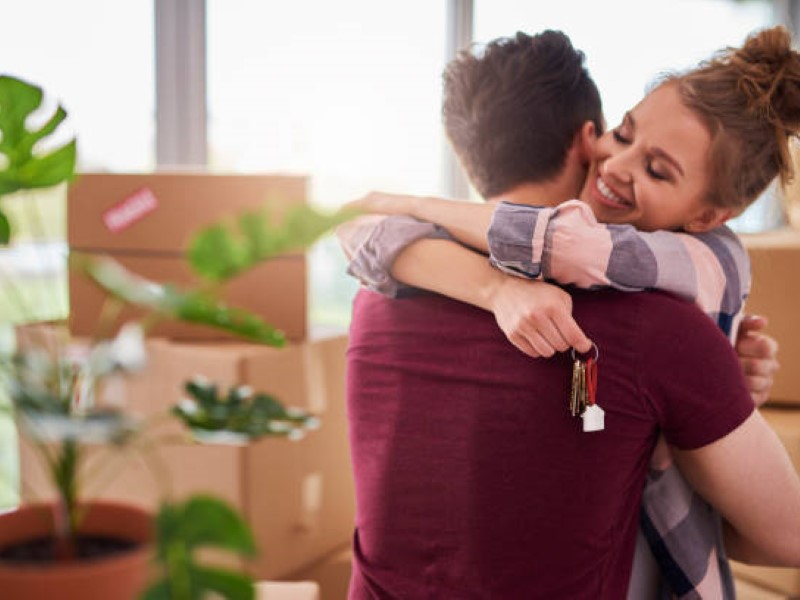key: (567, 354, 595, 421)
